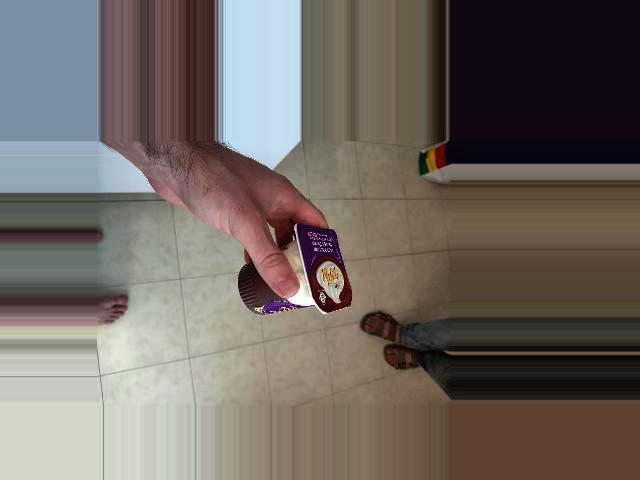milky: (277, 242, 362, 372)
